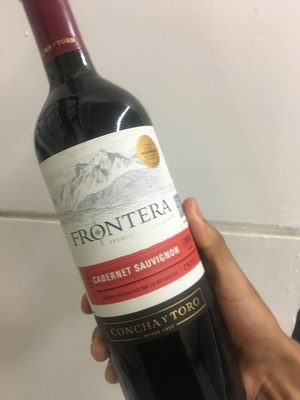frontera cabernet sauvignon: (23, 6, 228, 400)
